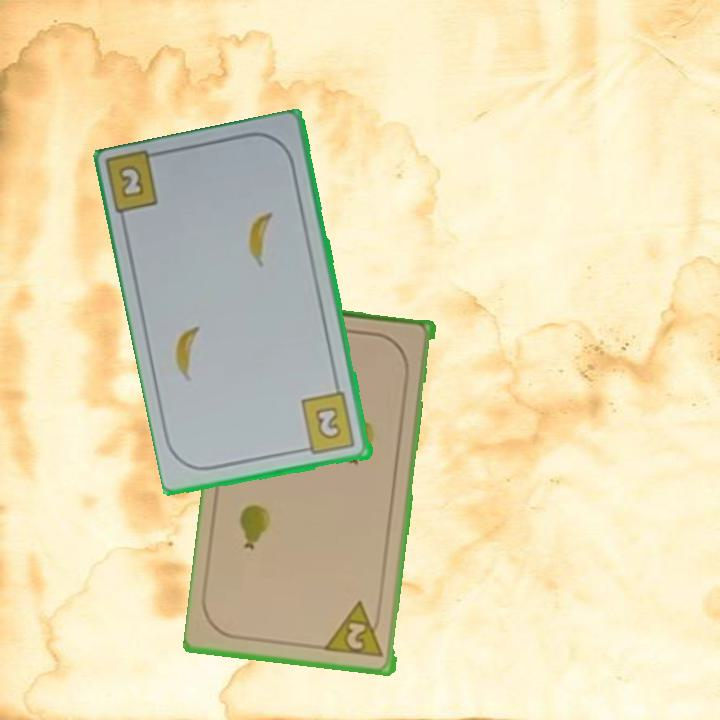2b: (297, 389, 359, 458), (115, 161, 148, 202)
2p: (324, 598, 388, 661)
